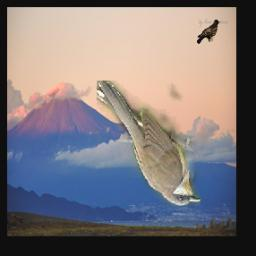Crow: (196, 19, 221, 45)
Cuckoo: (97, 81, 201, 206)
